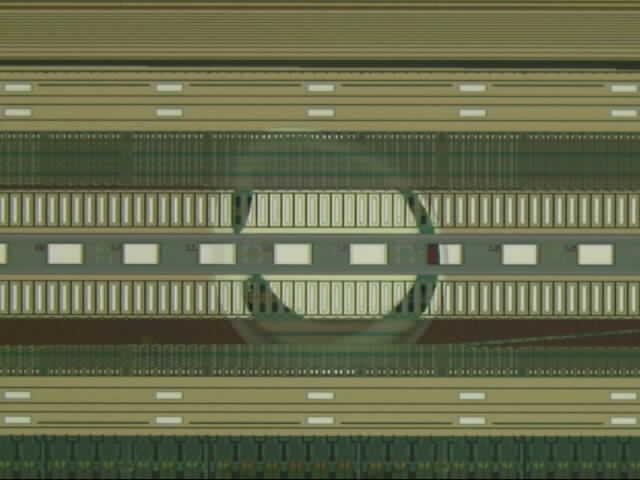BLOCK ETCH: (202, 123, 453, 382)
